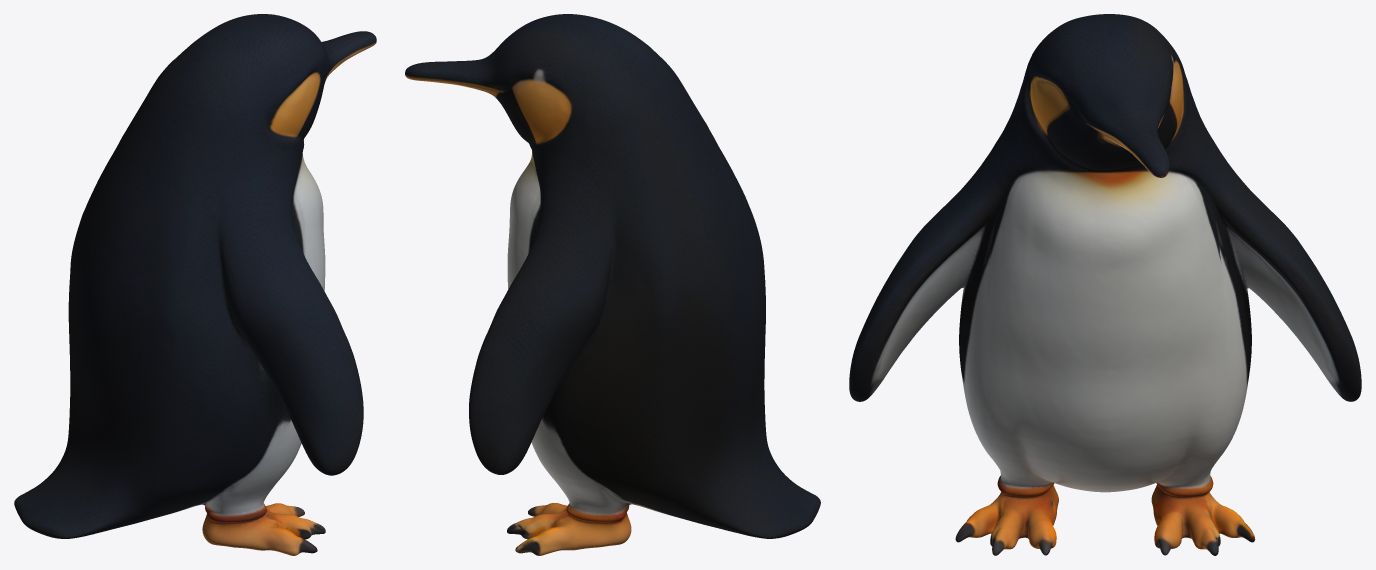
File: penguin.glb
The picture shows the model from 3 angles, left to right: view 1: azimuth 30°, elevation 25°; view 2: azimuth 150°, elevation 25°; view 3: azimuth 270°, elevation 25°; orthographic projection. The views are drawn at different scales.
Parts seen in each view (by area): view 1: tripo_node_d2eb1c56-7feb-4fd8-8511-e44d9d836022; view 2: tripo_node_d2eb1c56-7feb-4fd8-8511-e44d9d836022; view 3: tripo_node_d2eb1c56-7feb-4fd8-8511-e44d9d836022.
Part boxes in pixels (x1,y1,x2,y2): tripo_node_d2eb1c56-7feb-4fd8-8511-e44d9d836022: (14, 14, 376, 555); tripo_node_d2eb1c56-7feb-4fd8-8511-e44d9d836022: (405, 14, 820, 555); tripo_node_d2eb1c56-7feb-4fd8-8511-e44d9d836022: (849, 14, 1361, 555).
Size of the model in its own units: 0.7783 by 0.9489 by 0.8383.
1 material, 1 textured.
